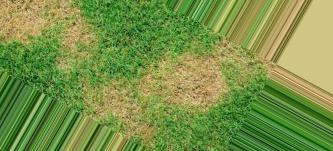patch: (182, 56, 218, 91), (111, 99, 141, 123), (68, 24, 96, 46), (13, 6, 35, 28), (117, 84, 131, 99), (168, 83, 180, 96), (195, 94, 210, 103)
